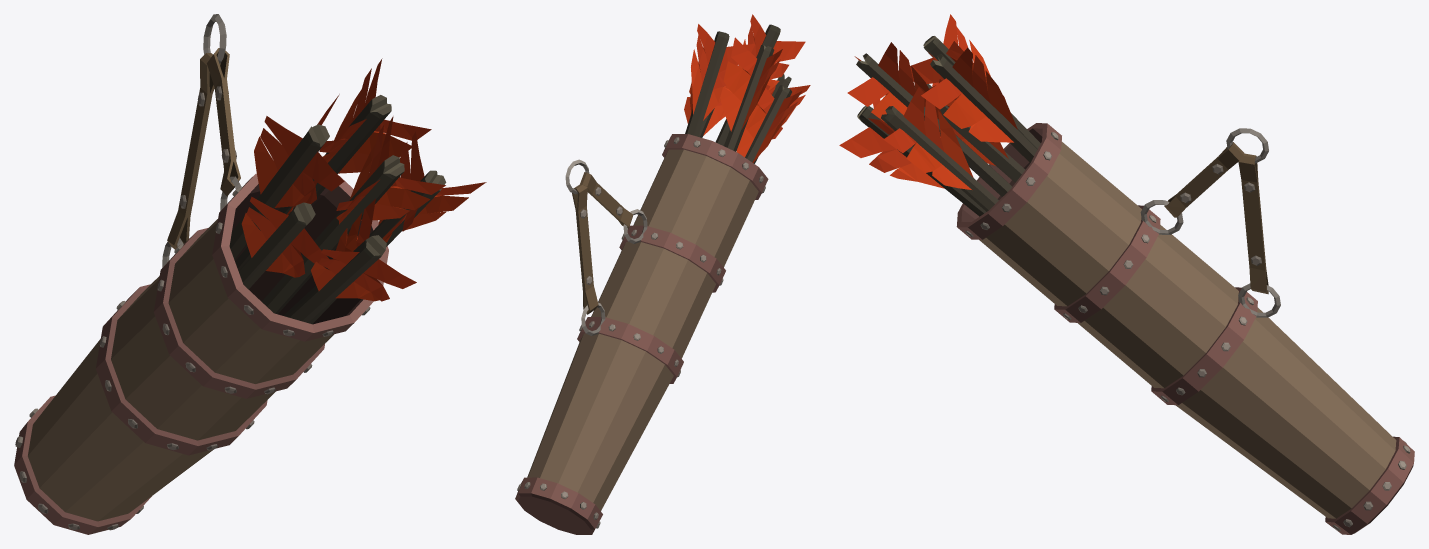
File: heavySideQuiver.glb
3 views of the same model, side by side, from view 1: azimuth 30°, elevation 25°; view 2: azimuth 150°, elevation 25°; view 3: azimuth 270°, elevation 25° (orthographic). The views are drawn at different scales.
Parts seen in each view (by area): view 1: heavySideQuiver; view 2: heavySideQuiver; view 3: heavySideQuiver.
Boxes of the visible parts, x1=… form: heavySideQuiver: x1=14, y1=14, x2=486, y2=534; heavySideQuiver: x1=515, y1=14, x2=810, y2=534; heavySideQuiver: x1=839, y1=14, x2=1414, y2=534.
Size of the model in its own units: 0.1881 by 0.5794 by 0.6113.
